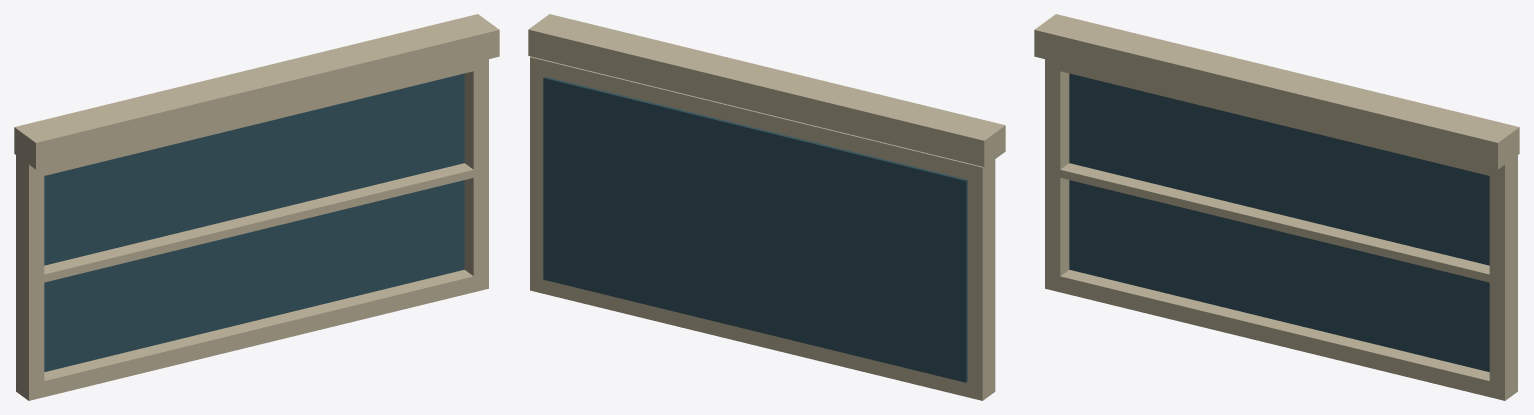
Rendered from window_33.glb.
3 views of the same model, side by side, from view 1: azimuth 30°, elevation 25°; view 2: azimuth 150°, elevation 25°; view 3: azimuth 330°, elevation 25° (orthographic).
Parts seen in each view (by area): view 1: window_33; view 2: window_33; view 3: window_33.
Part boxes in pixels (x1,y1,x2,y2): window_33: (14,14,499,400); window_33: (528,14,1005,400); window_33: (1034,14,1519,400).
Bounding box in the file's own units: 2.72 × 1.49 × 0.2375.
